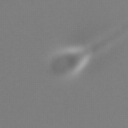normal: (83, 16, 128, 53)
